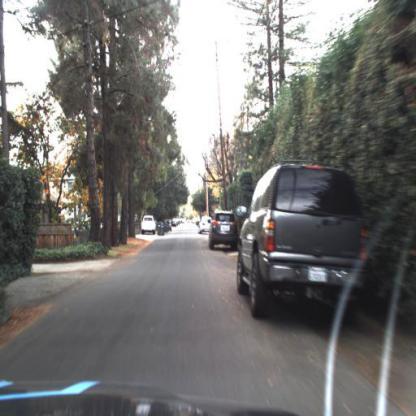car: (236, 158, 371, 330), (209, 207, 240, 256)
